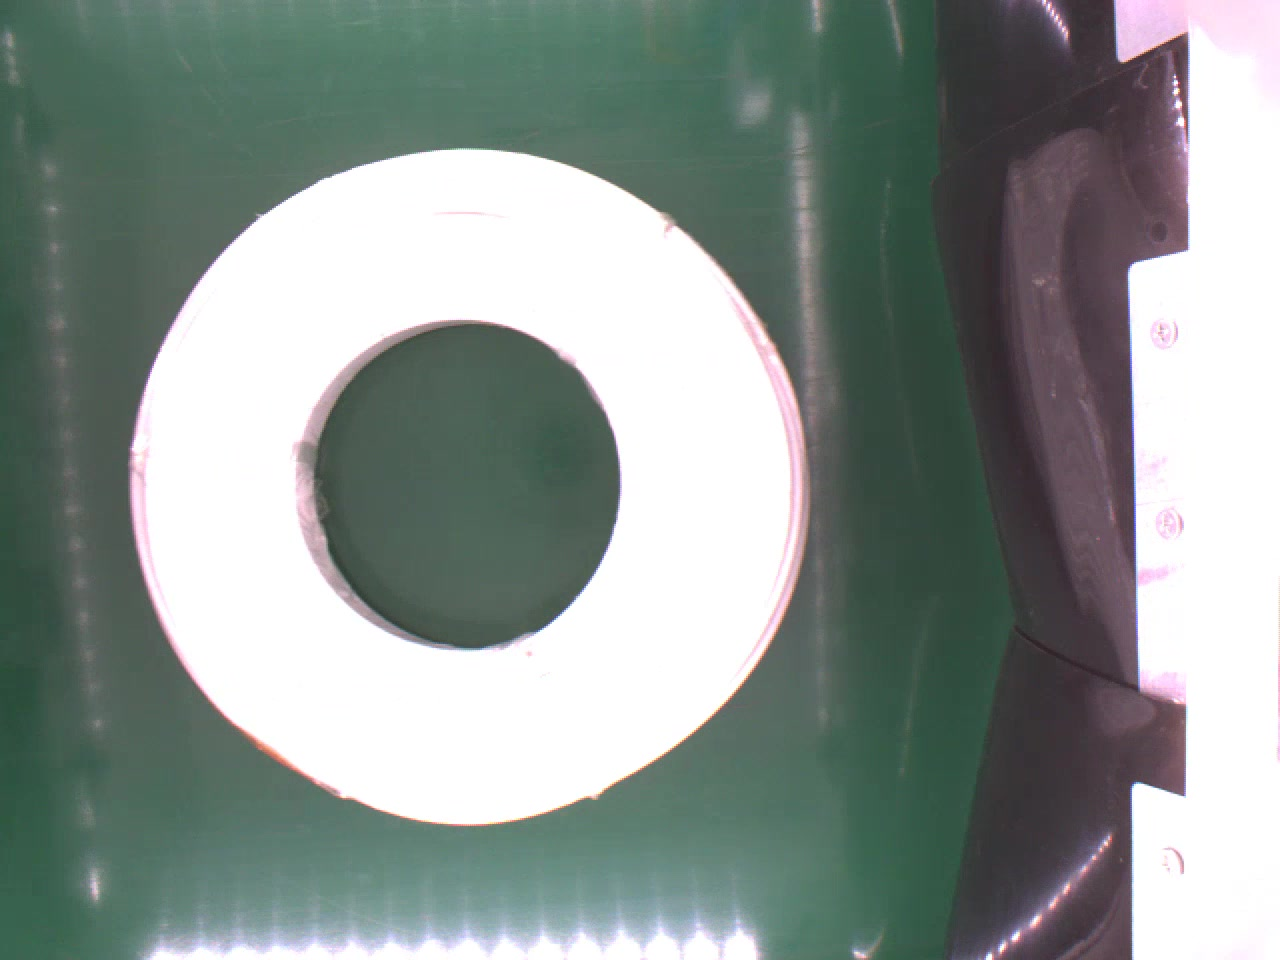white: (127, 143, 827, 831)
